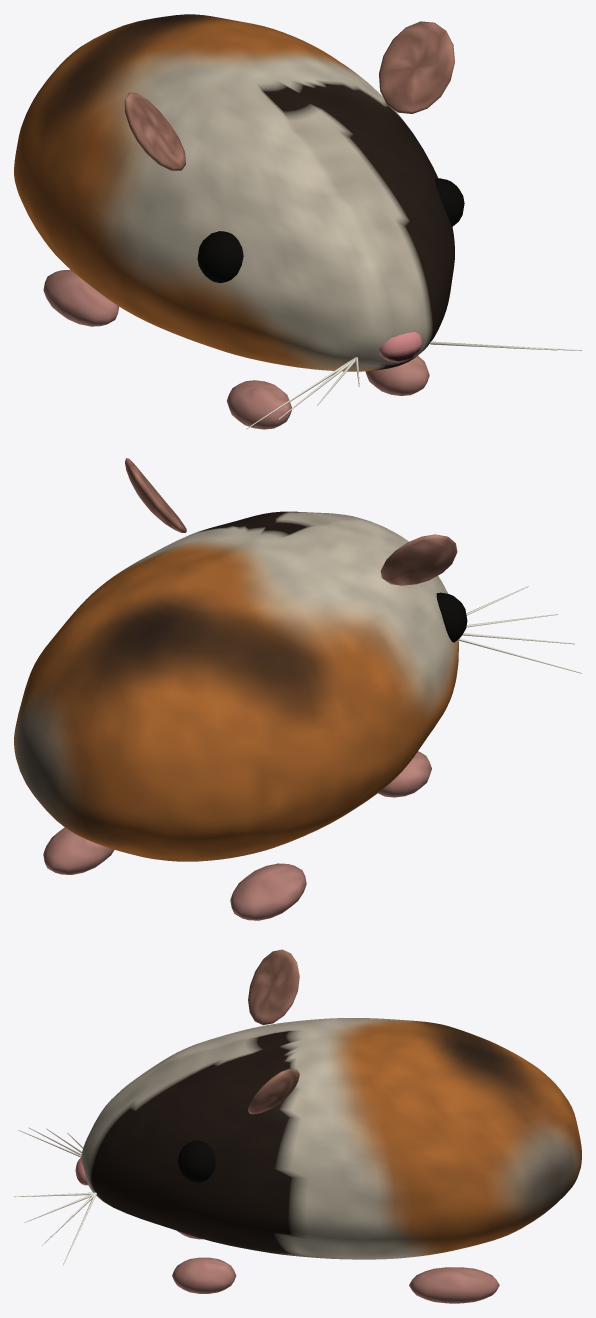
The model's file is GuineaPig.glb.
3 views of the same model, one above another, from view 1: azimuth 30°, elevation 25°; view 2: azimuth 150°, elevation 25°; view 3: azimuth 270°, elevation 25° (orthographic). The views are drawn at different scales.
Parts seen in each view (by area): view 1: Body, EarR, FootBL, EarL, FootFL, EyeL, FootFR, Whiskers, Nose, EyeR; view 2: Body, FootBL, EarL, FootBR, EarR, FootFL, EyeL, Whiskers; view 3: Body, EarL, FootBR, FootFR, EyeR, EarR, Whiskers.
Part boxes in pixels (x1,y1,x2,y2): Body: (14,14,454,371); EarR: (379,21,454,113); FootBL: (43,269,119,326); EarL: (124,92,185,170); FootFL: (227,380,291,429); EyeL: (197,231,243,283); FootFR: (365,356,429,395); Whiskers: (246,341,581,429); Nose: (379,332,422,362); EyeR: (435,178,464,226); Body: (14,511,458,861); FootBL: (230,863,306,920); EarL: (380,534,457,585); FootBR: (43,827,114,874); EarR: (125,458,186,532); FootFL: (378,751,431,797); EyeL: (436,592,467,642); Whiskers: (458,586,581,673); Body: (81,1018,581,1259); EarL: (248,949,299,1025); FootBR: (409,1267,499,1303); FootFR: (172,1257,236,1293); EyeR: (178,1140,215,1182); EarR: (248,1068,299,1114); Whiskers: (14,1127,96,1265).
Bounding box in the file's own units: 0.165 × 0.1474 × 0.2997.
